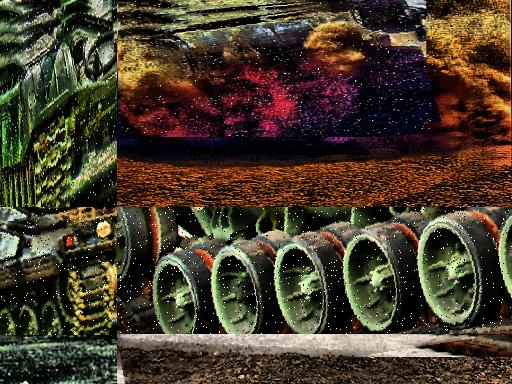tanks: (118, 208, 512, 335), (120, 2, 434, 137), (1, 2, 118, 208), (1, 208, 118, 336)
